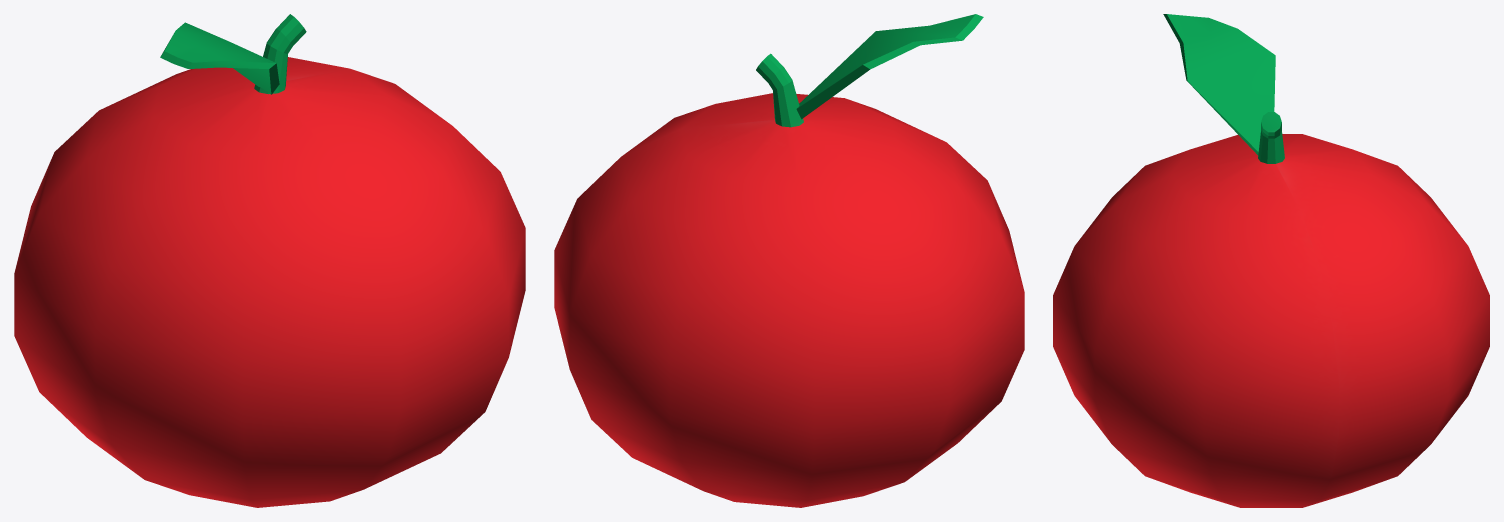
Rendered from Apple_Model.obj.
The picture shows the model from 3 angles, left to right: view 1: azimuth 30°, elevation 25°; view 2: azimuth 150°, elevation 25°; view 3: azimuth 270°, elevation 25°; orthographic projection. The views are drawn at different scales.
Parts seen in each view (by area): view 1: Apple; view 2: Apple; view 3: Apple.
Boxes of the visible parts, left/top/right/bottom form: Apple: left=14, top=14, right=525, bottom=507; Apple: left=554, top=14, right=1024, bottom=507; Apple: left=1053, top=14, right=1489, bottom=507.
Bounding box in the file's own units: 77.68 × 85.51 × 81.68.
Materials: 1 (1 with a texture image).
